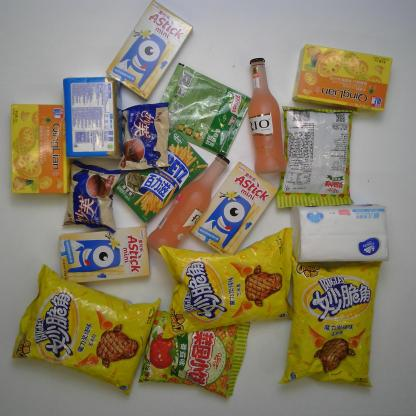Alcohol: (246, 57, 287, 184), (165, 159, 212, 251)
Dessert: (112, 1, 182, 95), (301, 45, 400, 110), (60, 227, 159, 290), (7, 102, 64, 195), (215, 163, 271, 253), (128, 133, 188, 213), (72, 167, 118, 231), (124, 110, 173, 167)
Puffed Food: (21, 264, 141, 392), (165, 248, 314, 332), (291, 264, 373, 388), (155, 310, 251, 404), (285, 110, 361, 213)
Seasoner: (168, 63, 237, 155)
Tissue: (296, 208, 392, 264), (62, 79, 115, 161)
